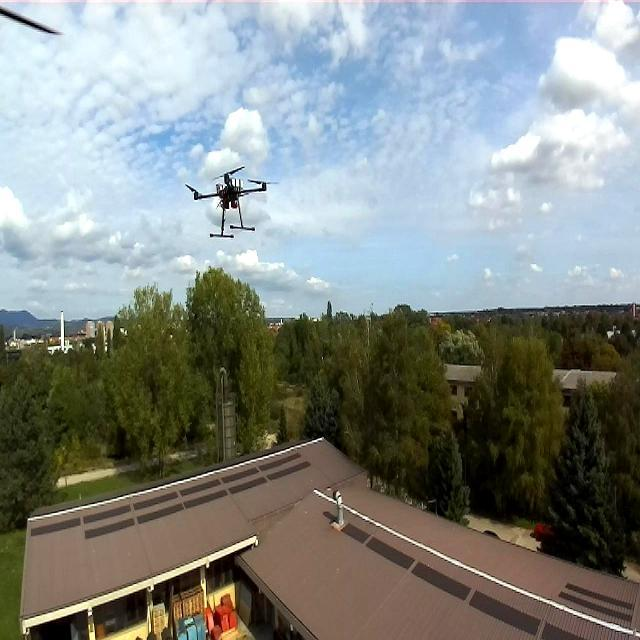drone: (189, 160, 269, 240)
